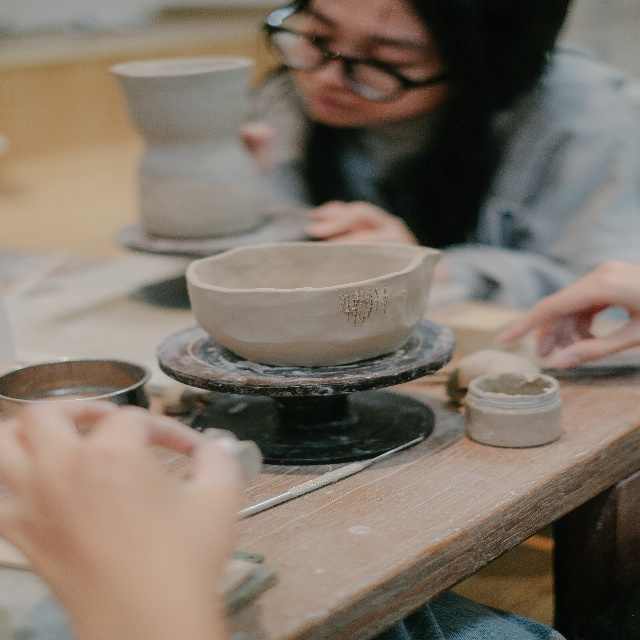Gafas: (261, 0, 448, 105)
Sin_guantes: (0, 399, 264, 640), (496, 259, 640, 373), (303, 191, 422, 252)
